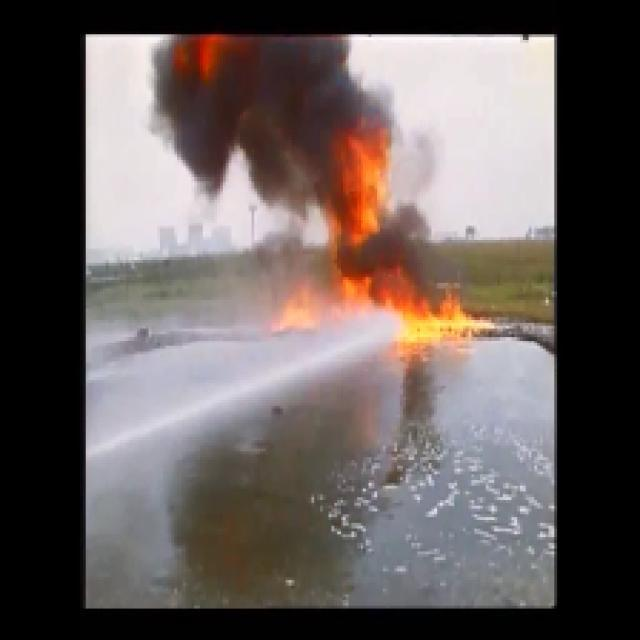Fire: (344, 142, 403, 329), (406, 302, 478, 334)
Smoke: (171, 36, 377, 138)
